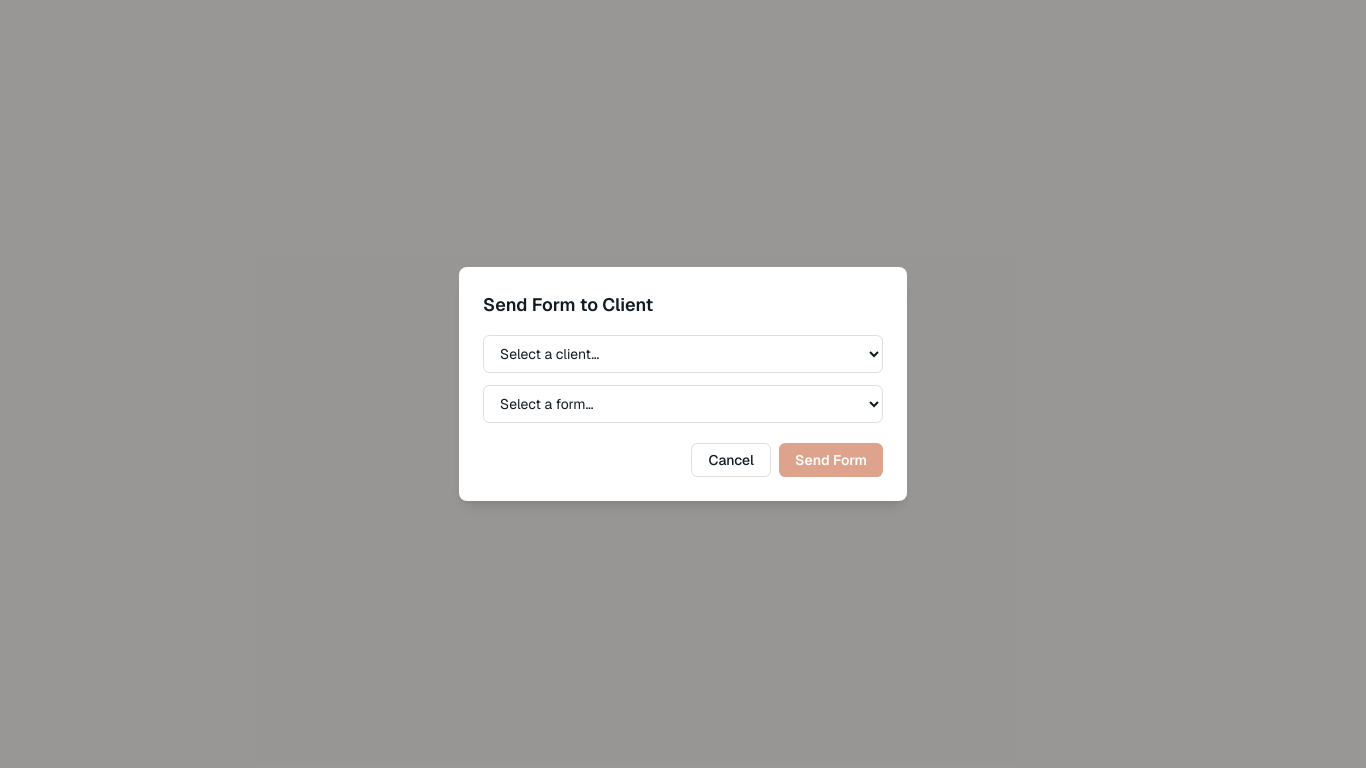
it: SendFormModal › shows the server error and stays open when sending fails
The image size is (1366, 768).
Select "Pat (RD-1)" in the 1st dropdown. click: (683, 354)
box: top-left (483, 335), bottom-right (883, 373)
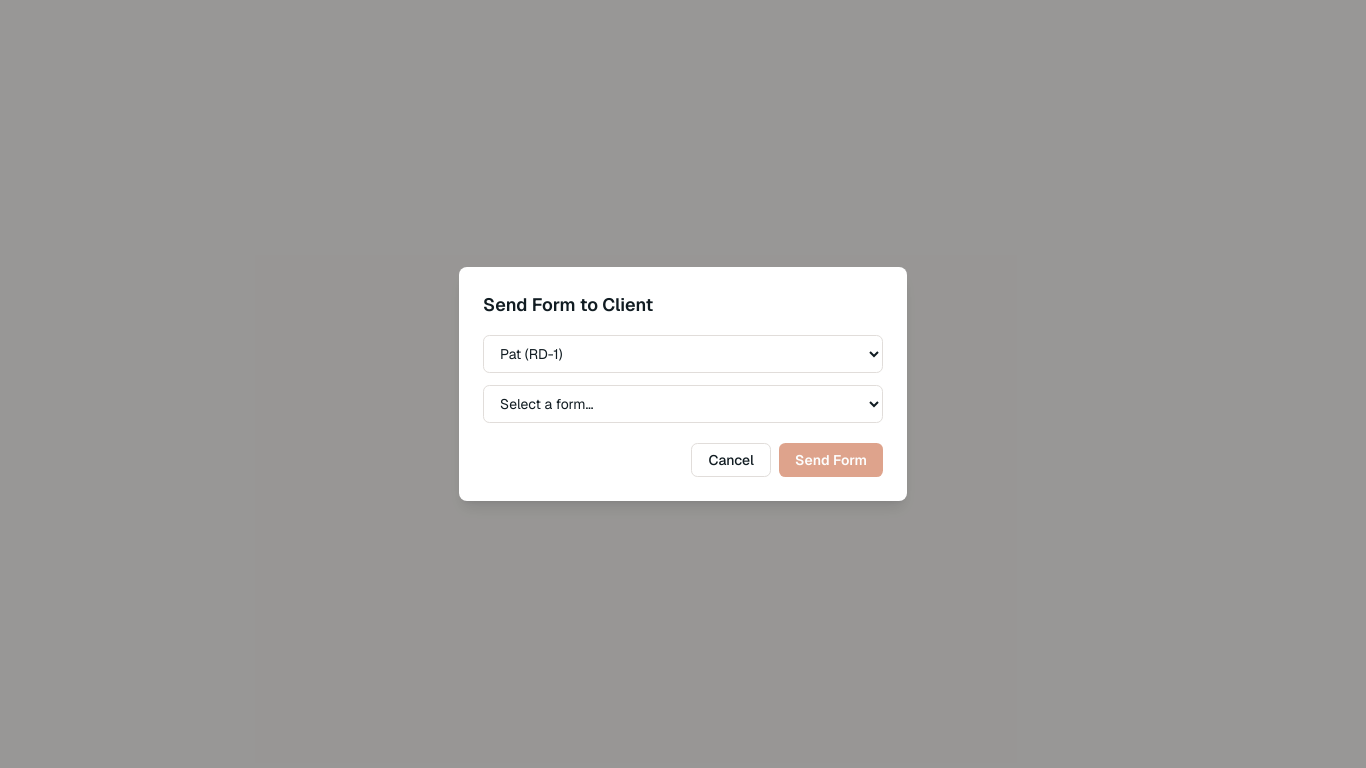
Select "PHQ-9" in the 2nd dropdown. click: (683, 404)
box: top-left (483, 385), bottom-right (883, 423)
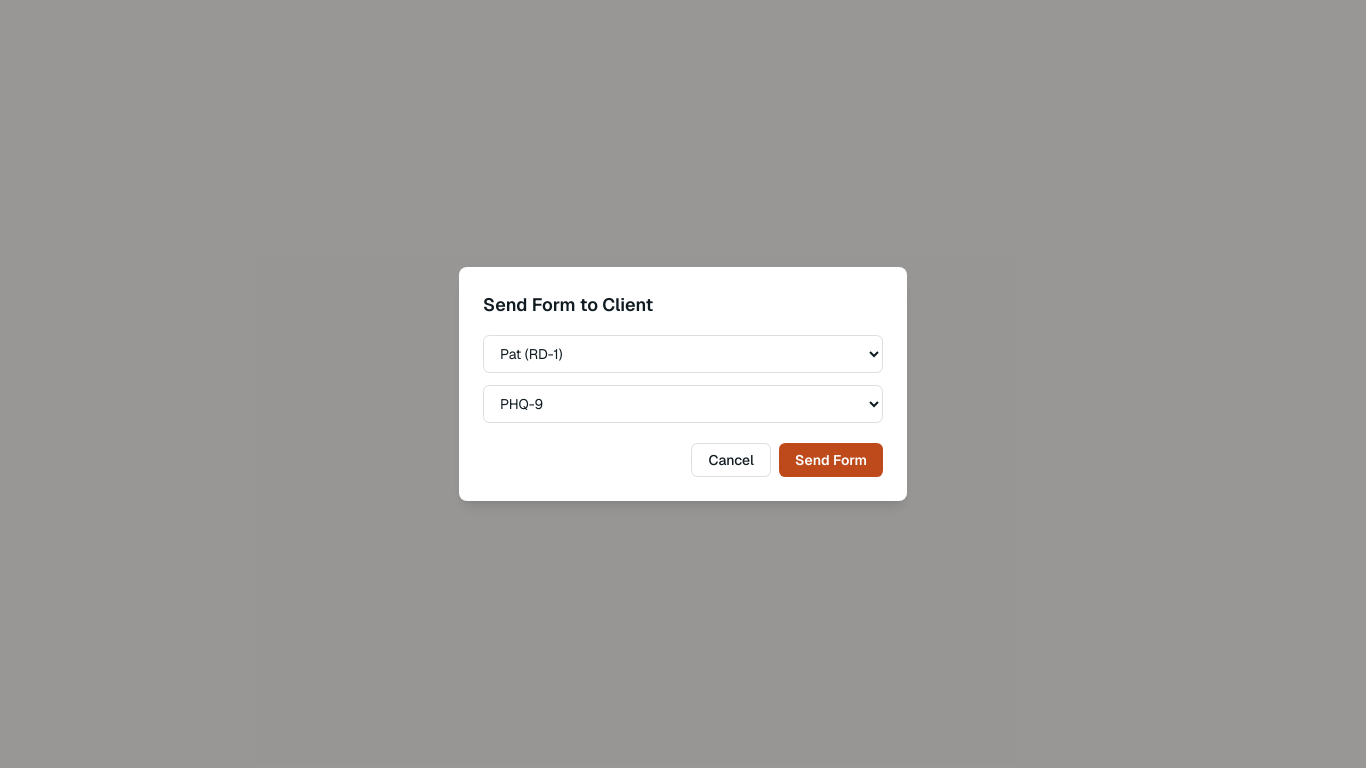
Click the button "Send Form". click: click(831, 460)
box: top-left (779, 443), bottom-right (883, 477)
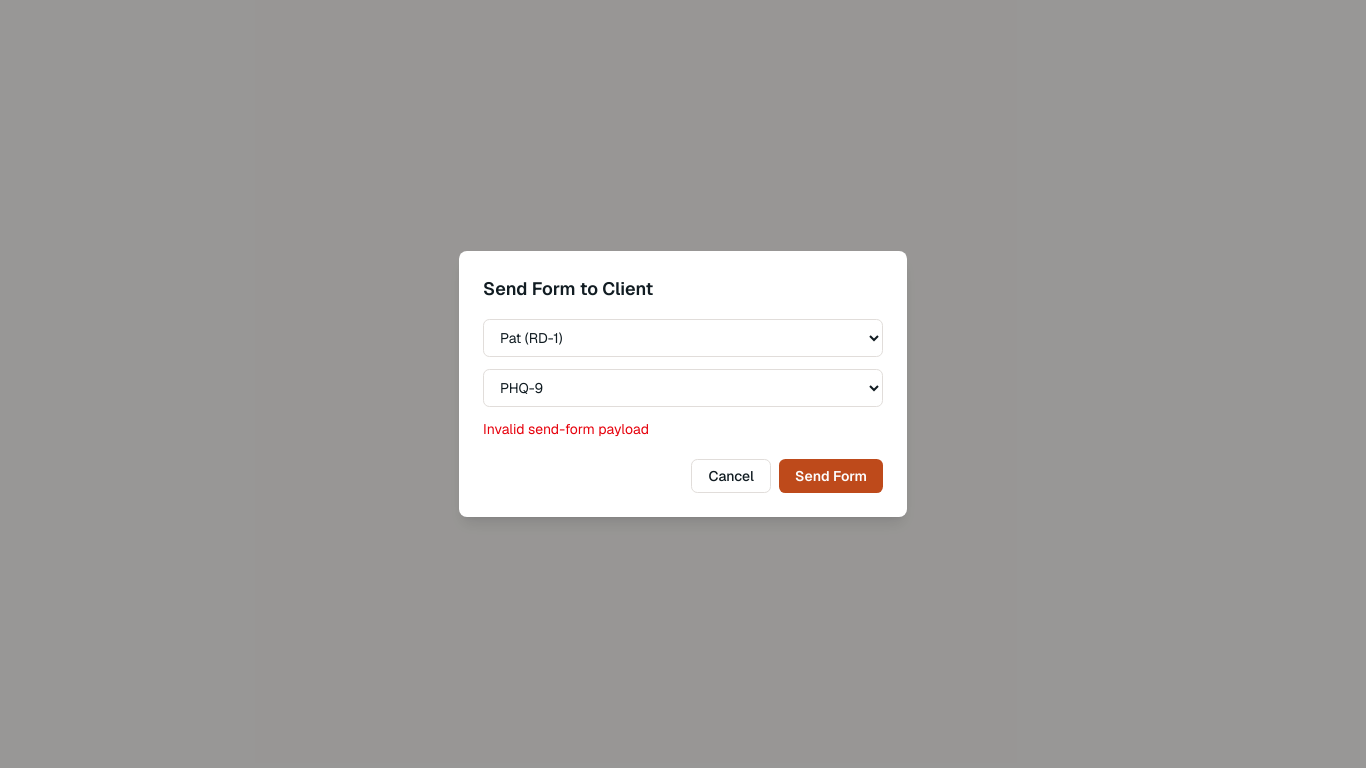
Check: the message reads "Invalid send-form payload", box top-left (483, 420), bottom-right (649, 438)
